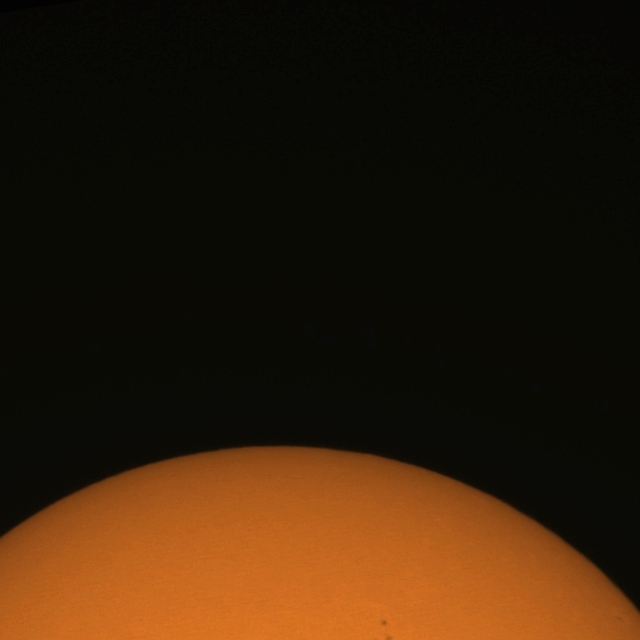sunspot: (614, 614, 624, 624), (380, 618, 388, 628)
